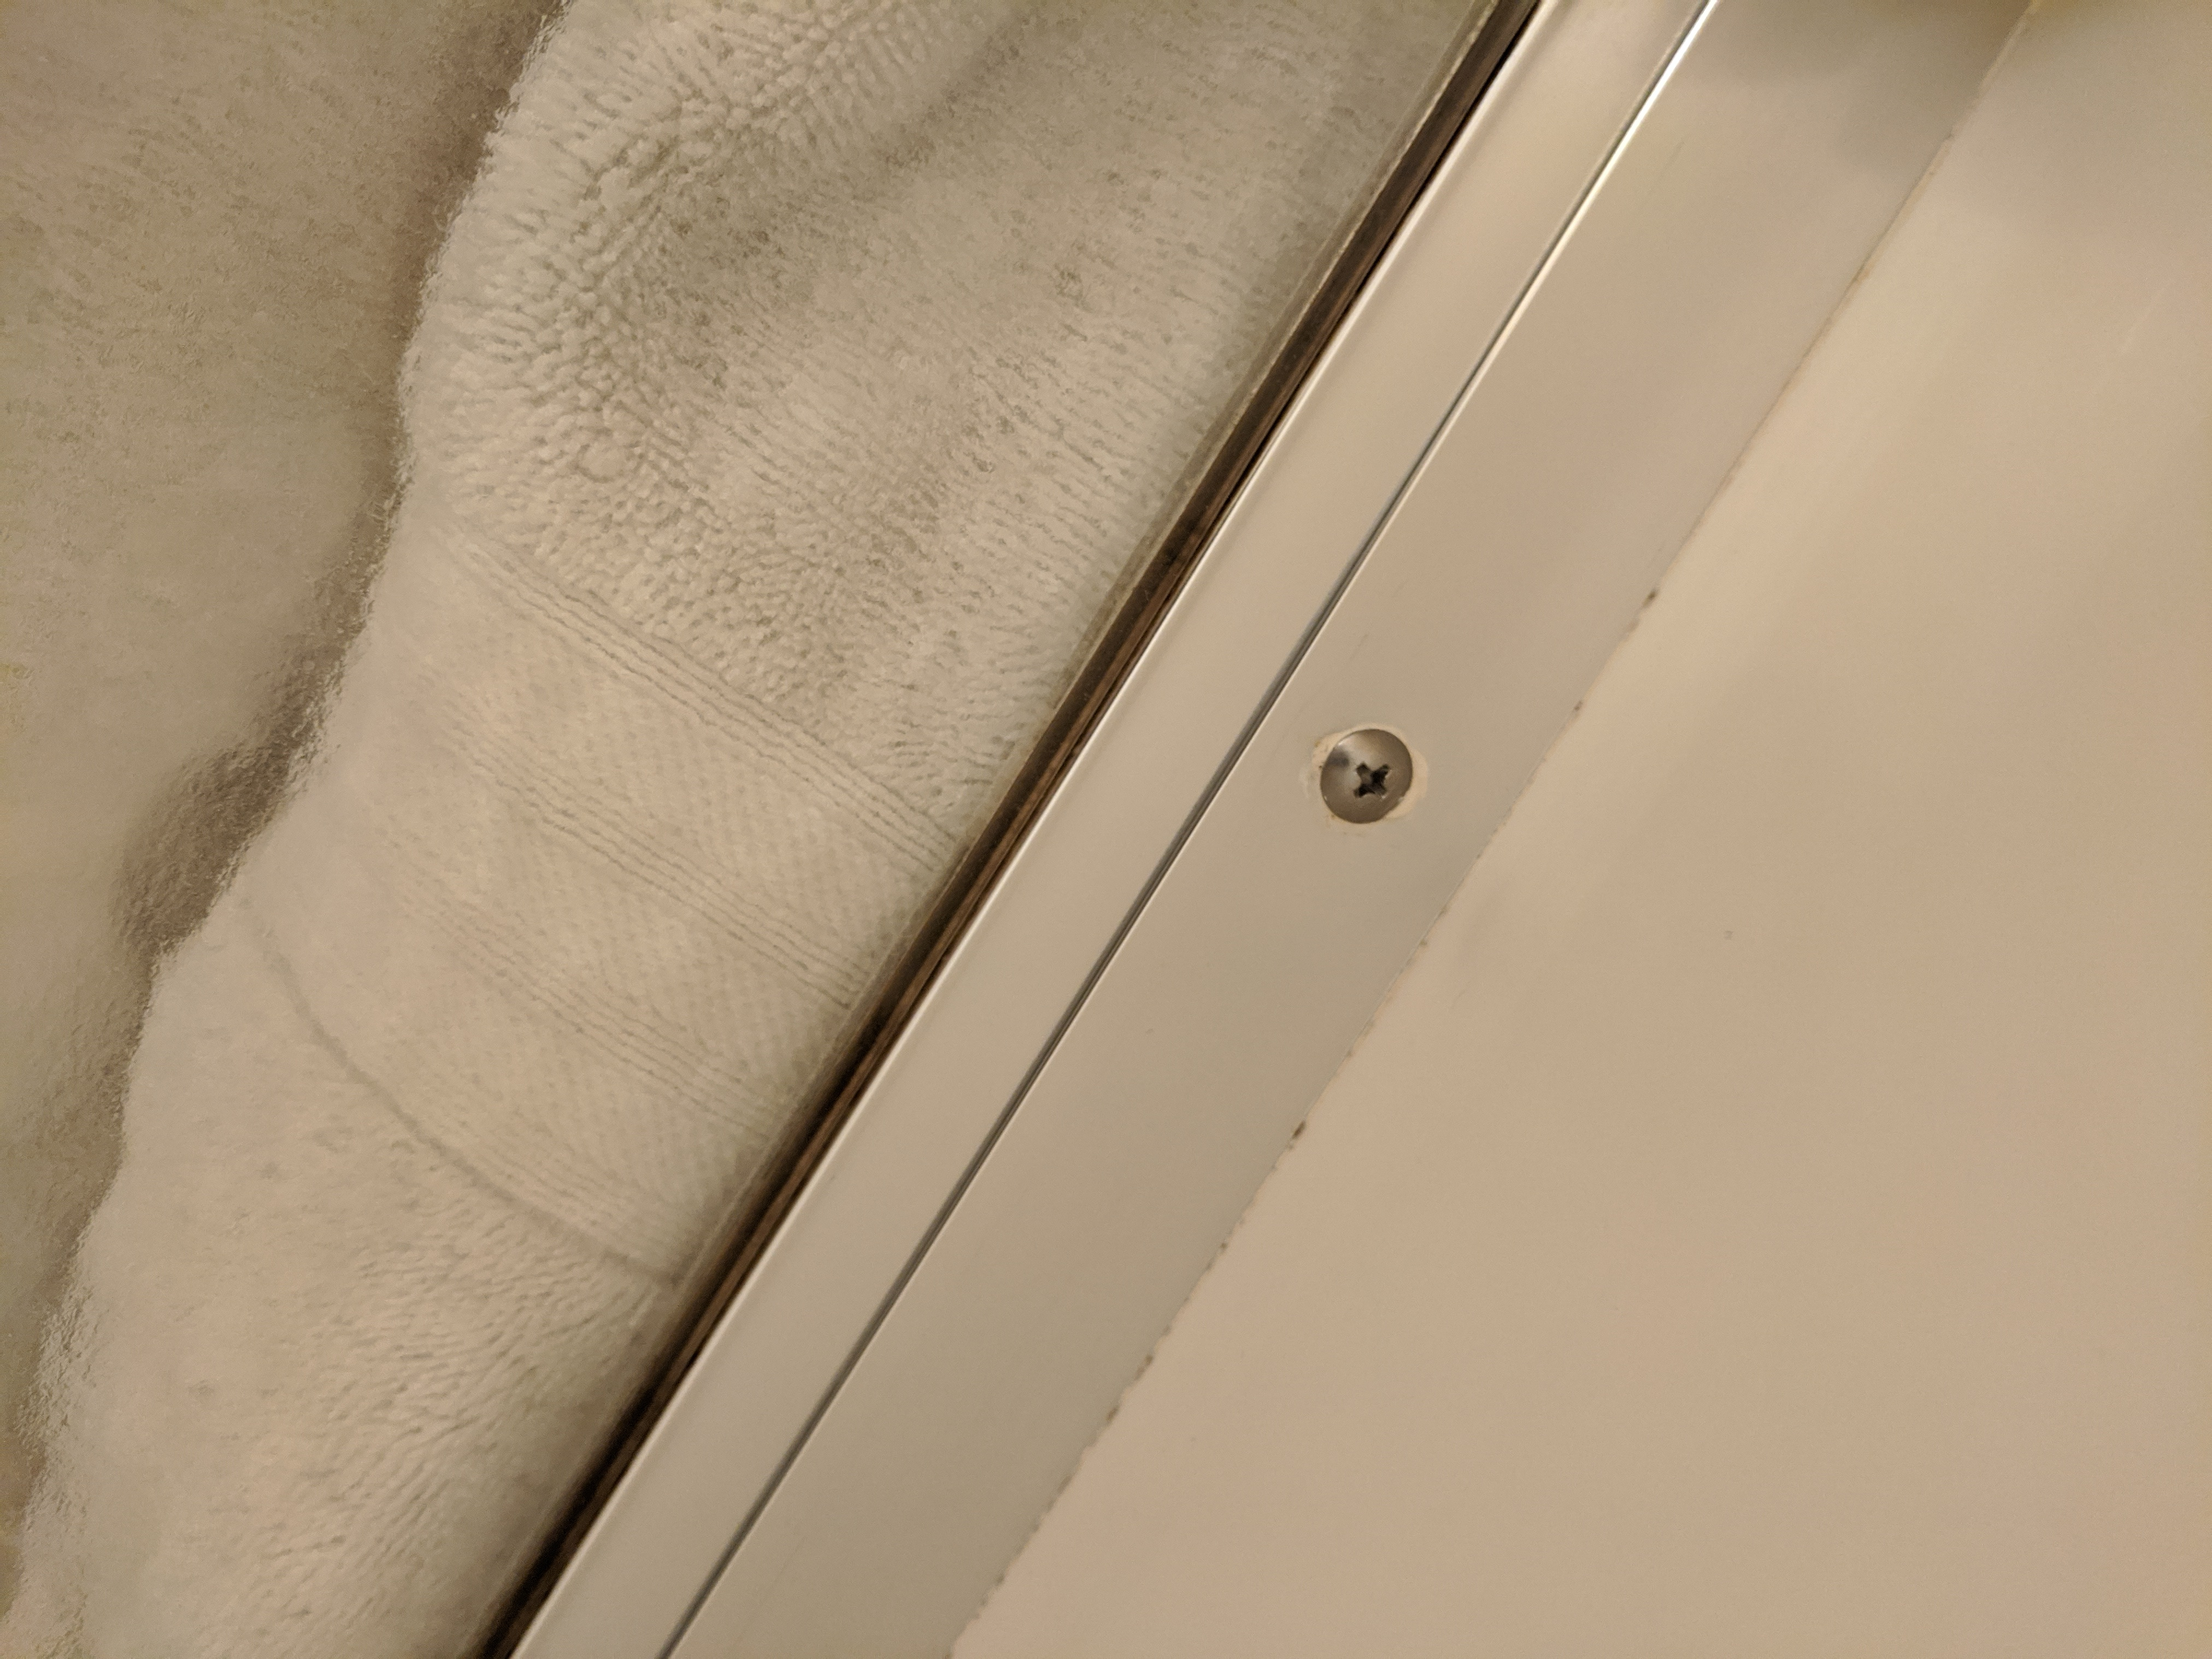cross_recessed_screw: (1312, 718, 1425, 828)
